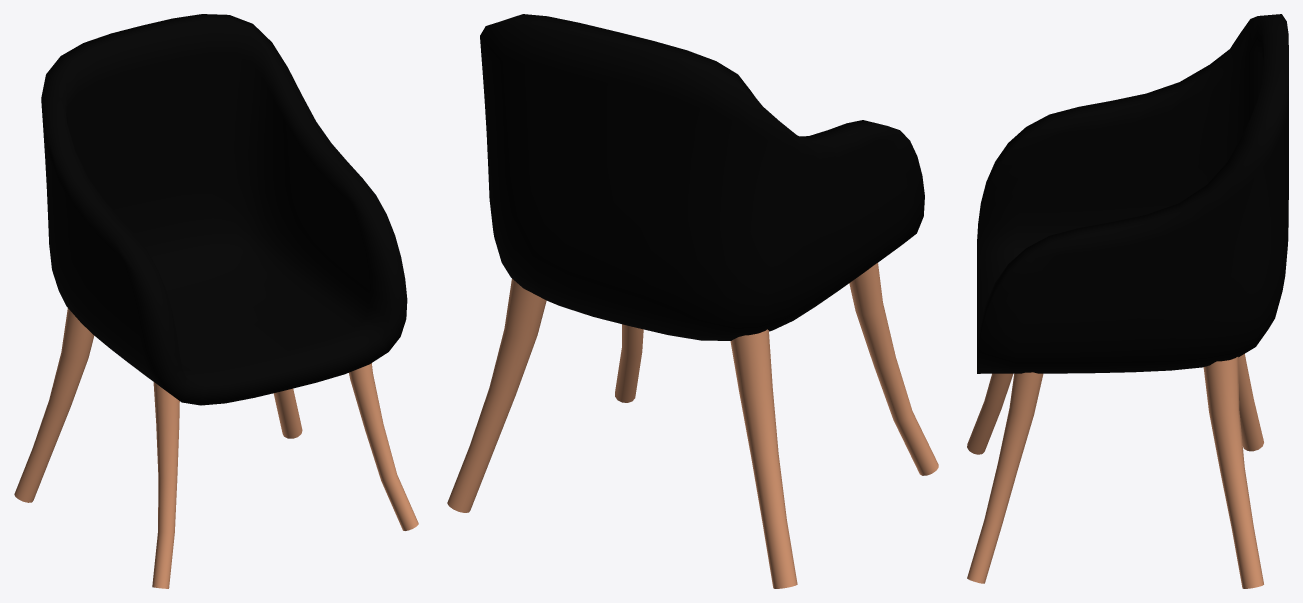
File: chair.fbx
The picture shows the model from 3 angles, left to right: view 1: azimuth 30°, elevation 25°; view 2: azimuth 150°, elevation 25°; view 3: azimuth 270°, elevation 25°; orthographic projection. The views are drawn at different scales.
Parts seen in each view (by area): view 1: Seat, Legs_front, Legs_back; view 2: Seat, Legs_back, Legs_front; view 3: Seat, Legs_back, Legs_front.
Boxes of the visible parts, <box> form: Seat: <box>41,14,407,405</box>; Legs_front: <box>152,363,418,588</box>; Legs_back: <box>14,308,302,502</box>; Seat: <box>480,14,924,340</box>; Legs_back: <box>447,278,797,588</box>; Legs_front: <box>615,263,938,475</box>; Seat: <box>977,14,1288,373</box>; Legs_back: <box>1203,354,1263,588</box>; Legs_front: <box>967,372,1043,583</box>.
Bounding box in the file's own units: 624 × 899 × 560.
